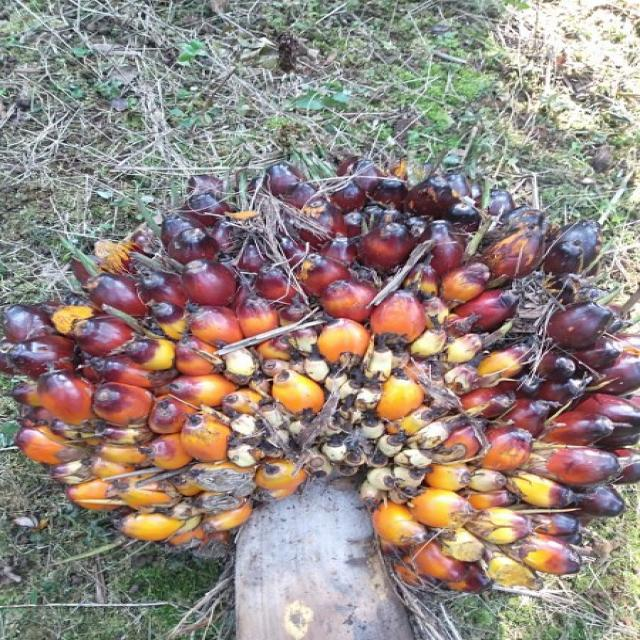fraksi 1: (4, 65, 640, 616)
